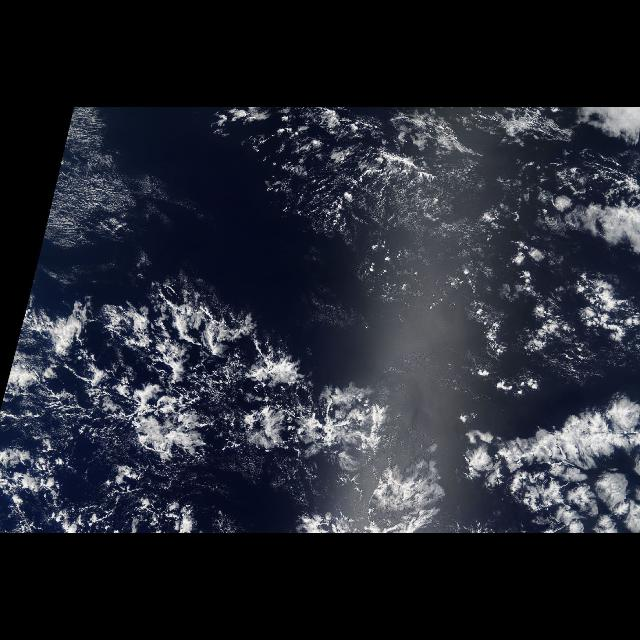Flower: (474, 414, 636, 524)
